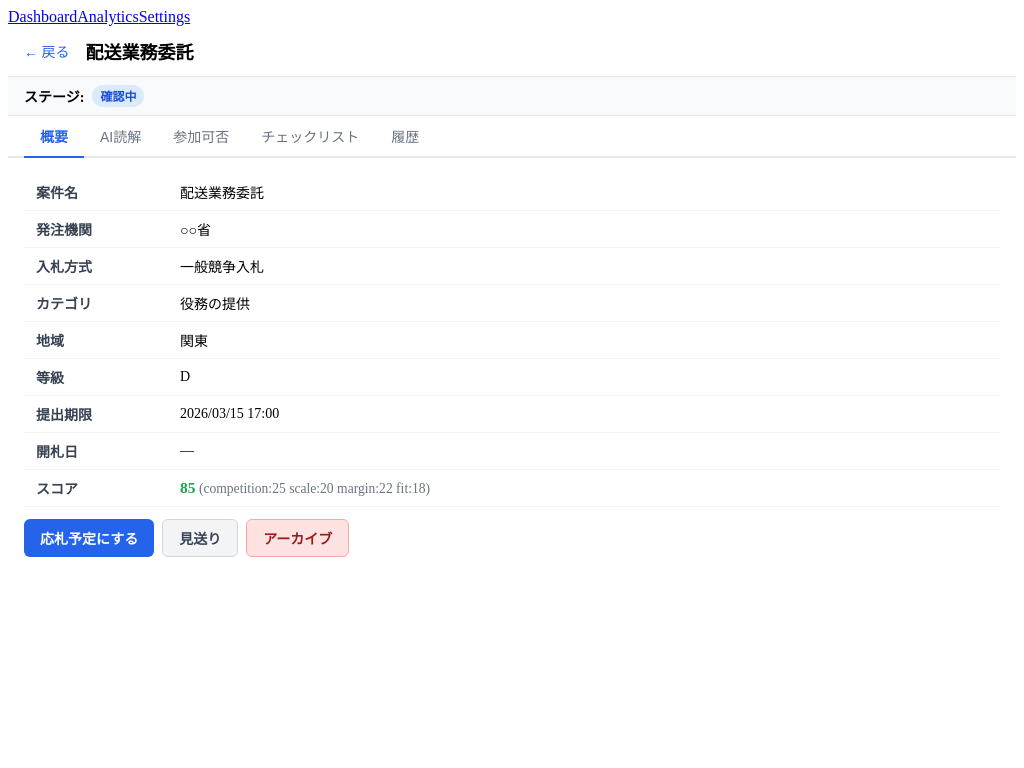
Scenario: HistoryTab — EventList › renders event count
The image size is (1024, 768).
Click the button with test id "tab-history".
click(405, 137)  # box [375,116,435,158]
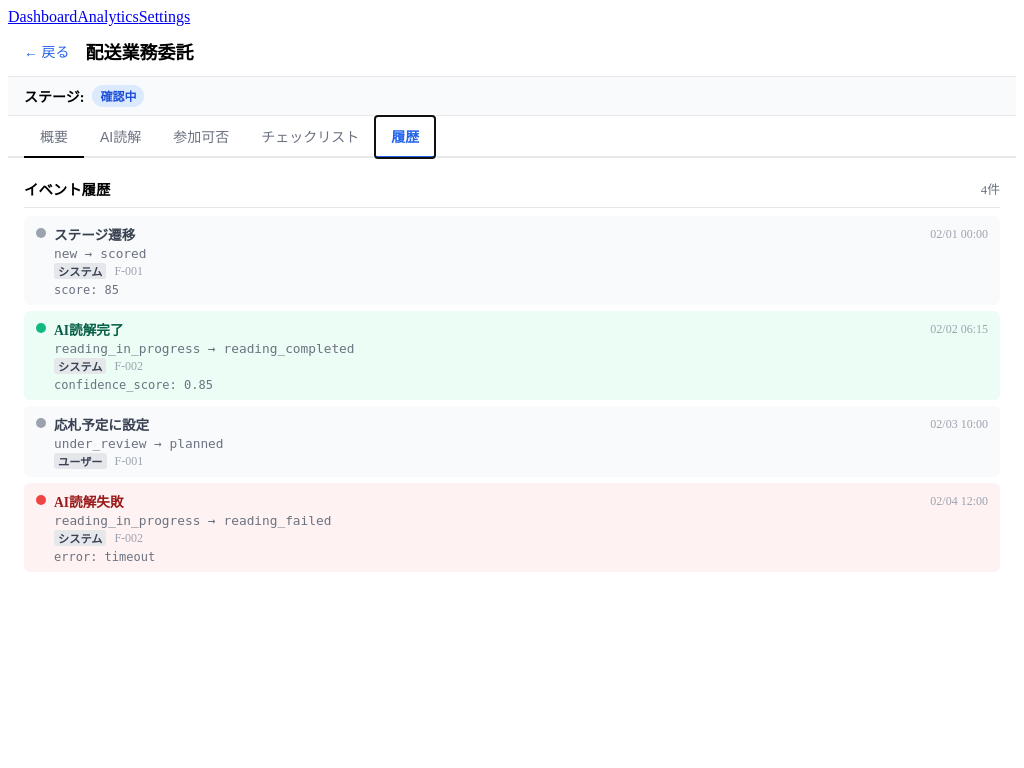
Expected: the element with test id "history-tab" shows "4件", [24,174,1000,572]
